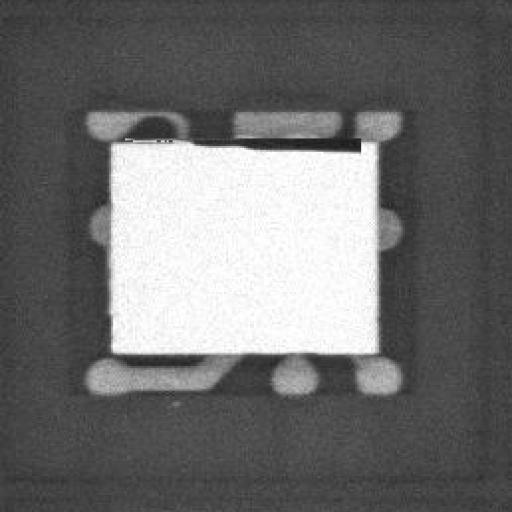DIE_BROKEN: (183, 129, 361, 152)
